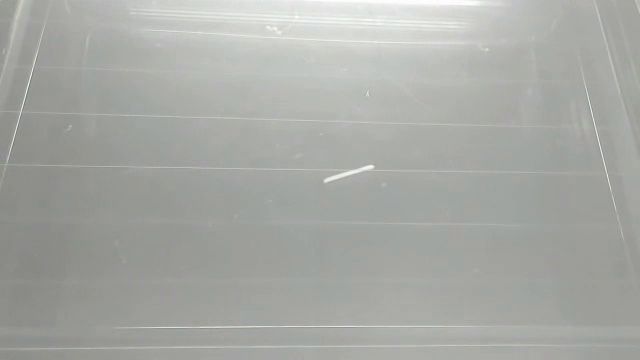alpha: (321, 162, 378, 186)
